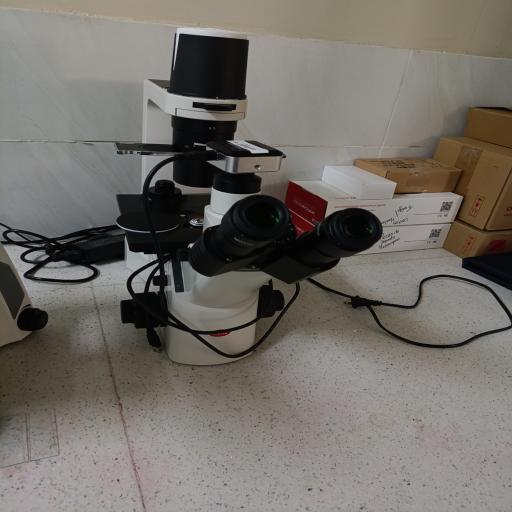Microscopio_camara: (104, 12, 389, 374)
